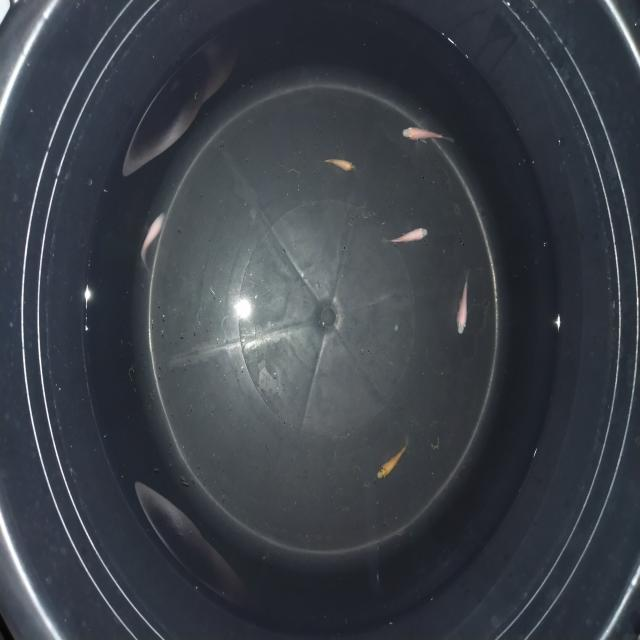nila: (140, 204, 168, 267), (376, 435, 412, 481), (400, 124, 454, 148), (383, 224, 438, 244), (455, 272, 472, 336), (321, 153, 357, 174)
